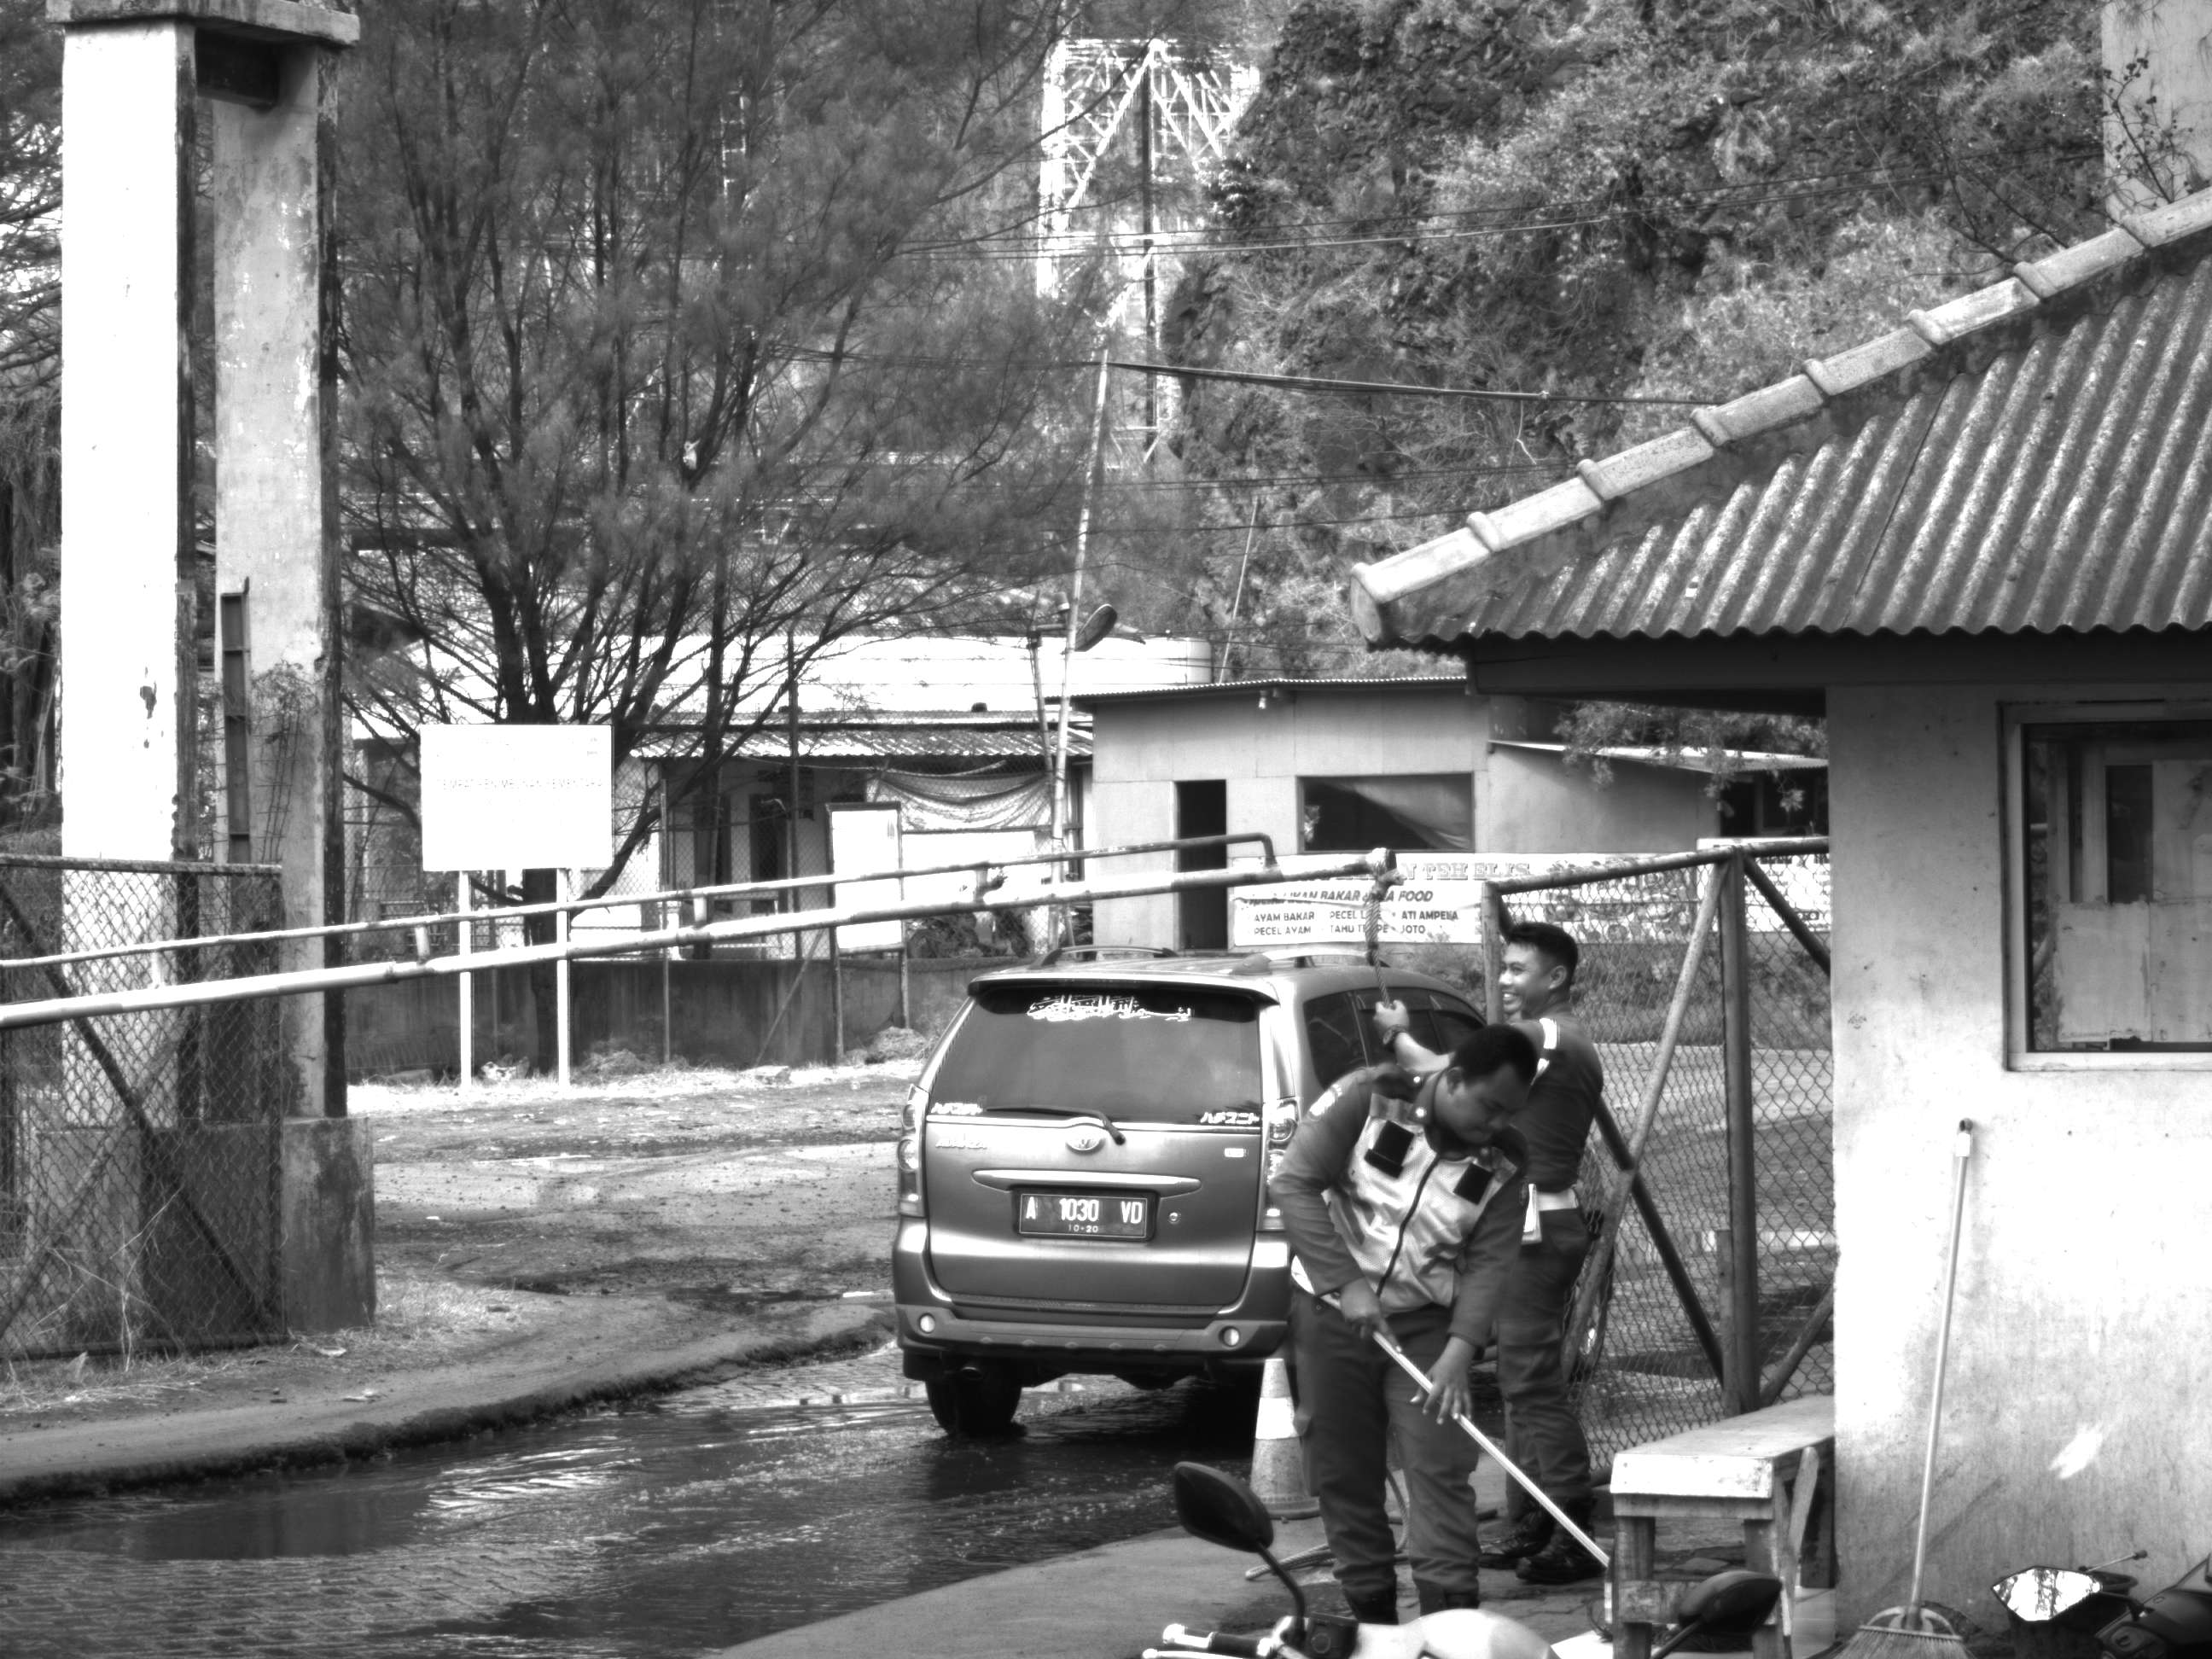day_small_rear: (899, 946, 1398, 1442)
plate: (1012, 1188, 1154, 1250)
